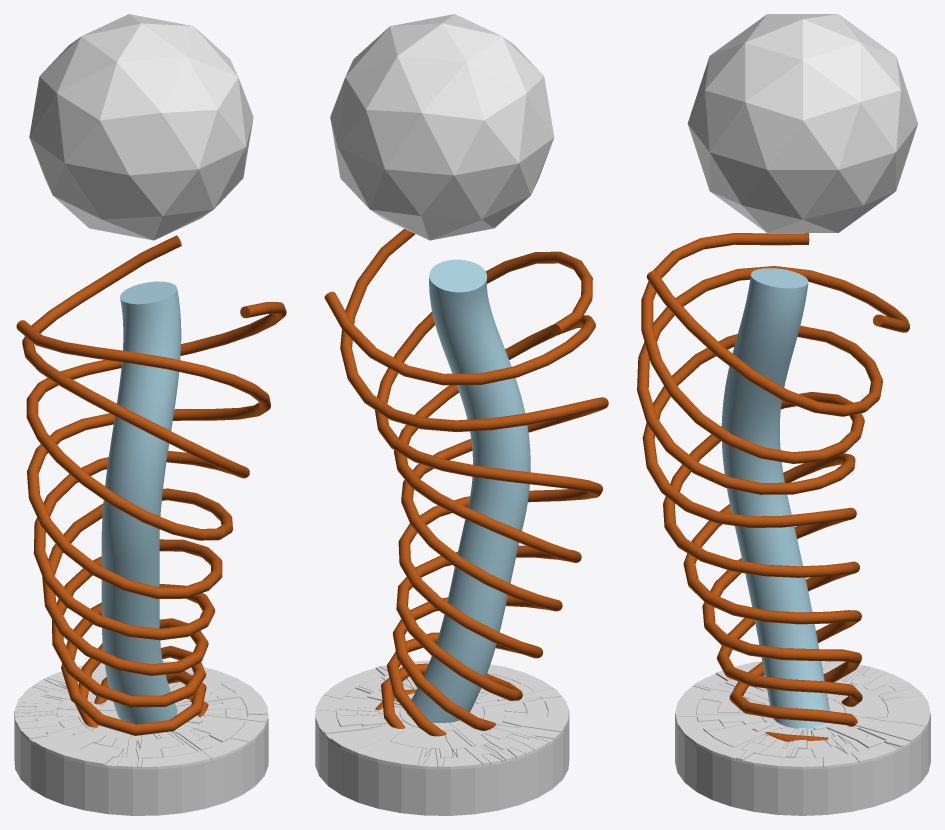
The model's file is towerB_temp.fbx.
3 views of the same model, side by side, from view 1: azimuth 30°, elevation 25°; view 2: azimuth 150°, elevation 25°; view 3: azimuth 270°, elevation 25° (orthographic).
Parts seen in each view (by area): view 1: rope_1, Icosphere, Bot; view 2: rope_1, Icosphere, Bot; view 3: rope_1, Icosphere, Bot.
Part boxes in pixels (box(x1,y1,x2,y2)): rope_1: box(16, 235, 286, 735); Icosphere: box(29, 14, 253, 240); Bot: box(14, 661, 268, 815); rope_1: box(324, 228, 608, 737); Icosphere: box(330, 14, 554, 240); Bot: box(315, 660, 569, 815); rope_1: box(637, 233, 909, 742); Icosphere: box(687, 14, 917, 232); Bot: box(675, 661, 930, 815).
Bounding box in the file's own units: 428 × 1280 × 459.
